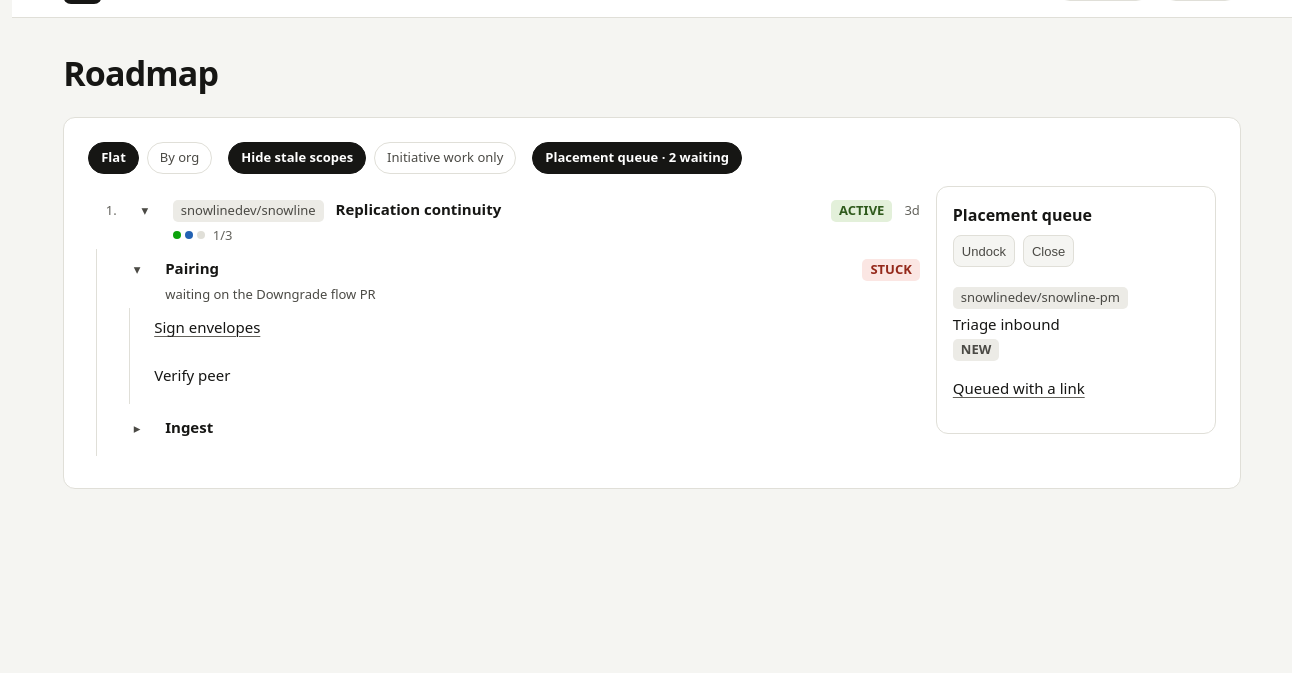
Test case: board kind: drawer › ?drawer=docked renders docked on load and closing takes the URL back to bare
Check: the text "Replication continuity" is shown, box [336, 199, 501, 219]
Check: the button "Undock" is shown, box [953, 235, 1015, 267]
Step 1. Click the button "Close" → {"x": 1049, "y": 251}, box [1023, 235, 1074, 267]
(page scrolled)
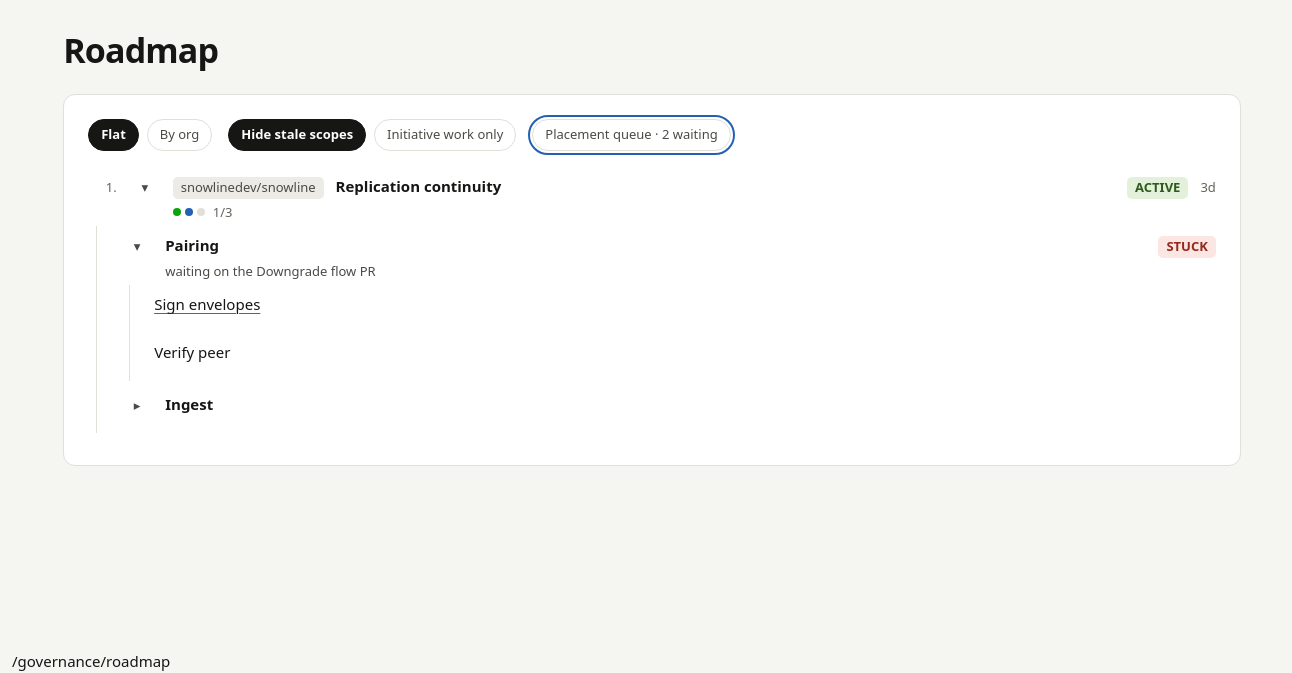
Check: the text with test id "url" reads "/governance/roadmap", box [12, 651, 170, 671]
